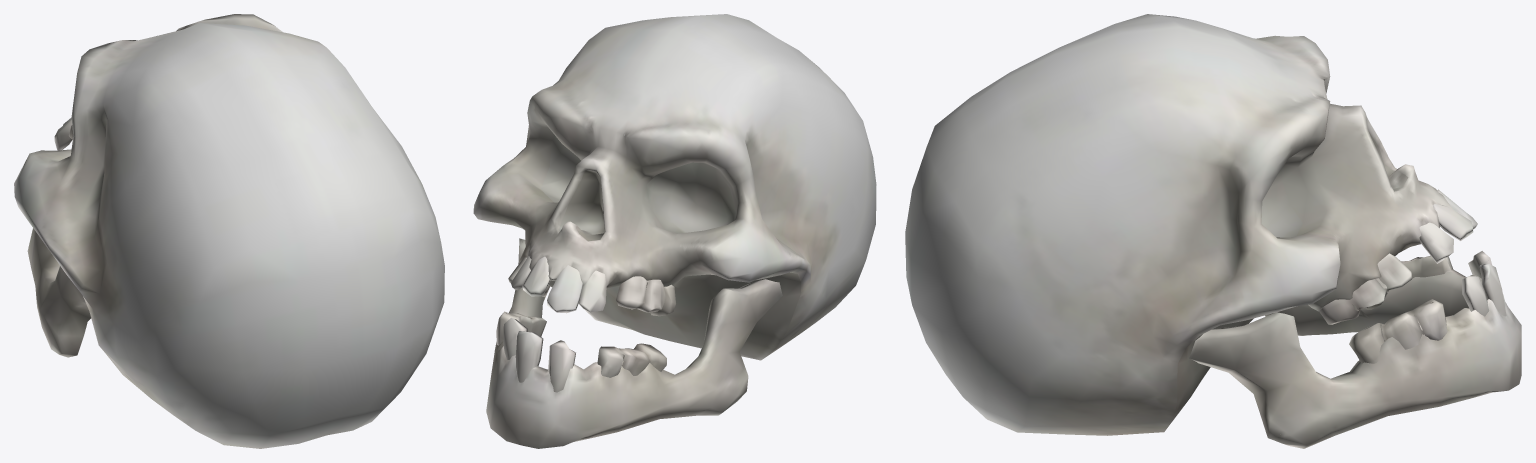
3 views of the same model, side by side, from view 1: azimuth 30°, elevation 25°; view 2: azimuth 150°, elevation 25°; view 3: azimuth 270°, elevation 25° (orthographic). The views are drawn at different scales.
Visible parts, largest first — view 1: SM_Skull_01_LOD0; view 2: SM_Skull_01_LOD0; view 3: SM_Skull_01_LOD0.
Boxes of the visible parts, <box> form: SM_Skull_01_LOD0: <box>14,14,444,448</box>; SM_Skull_01_LOD0: <box>473,14,876,448</box>; SM_Skull_01_LOD0: <box>905,14,1521,448</box>.
Bounding box in the file's own units: 0.1657 × 0.1771 × 0.2638.
1 material, 1 textured.
